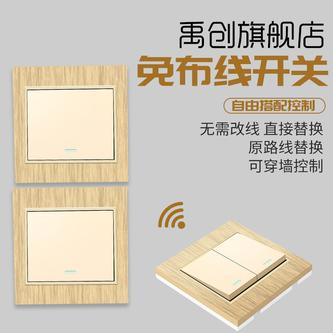switch: (27, 208, 123, 291), (27, 91, 117, 157), (220, 238, 290, 267), (181, 265, 250, 292)
